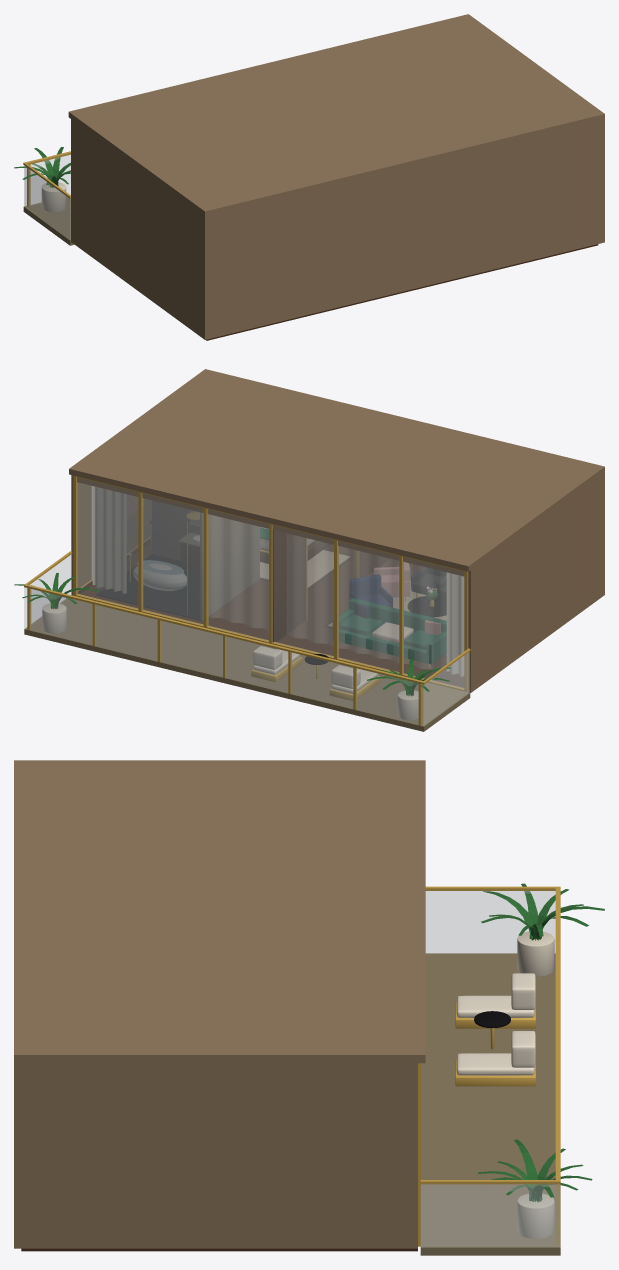
Rendered from room_suite.glb.
3 renders of one model, top to bottom at view 1: azimuth 30°, elevation 25°; view 2: azimuth 150°, elevation 25°; view 3: azimuth 270°, elevation 25°, orthographic. The views are drawn at different scales.
Parts seen in each view (by area): view 1: RmSuiteS_LuxPlasterWarm, RmSuiteS_LuxGlass, RmSuiteS_LuxStoneFine, RmSuiteS_LuxHerringbone, RmSuiteF_LuxLeaf, RmSuiteF_LuxPot, RmSuiteS_LuxGold; view 2: RmSuiteS_LuxPlasterWarm, RmSuiteS_LuxGlass, RmSuiteS_LuxSheer, RmSuiteS_LuxStoneFine, RmSuiteF_LuxGlassSmoke, RmSuiteS_LuxGold, RmSuiteS_LuxHerringbone, RmSuiteF_LuxMarbleWhite, RmSuiteS_LuxVelvetCream, RmSuiteF_LuxFlutedWalnut, RmSuiteF_LuxVelvetEmerald, RmSuiteF_LuxMarbleBlack (+10 smaller); view 3: RmSuiteS_LuxPlasterWarm, RmSuiteS_LuxStoneFine, RmSuiteS_LuxGlass, RmSuiteF_LuxLinen, RmSuiteS_LuxGold, RmSuiteF_LuxLeaf, RmSuiteF_LuxPot, RmSuiteF_LuxGoldBrushed, RmSuiteS_LuxHerringbone.
Boxes of the visible parts, x1,y1,x2,y2 form: RmSuiteS_LuxPlasterWarm: [68, 14, 604, 339]; RmSuiteS_LuxGlass: [24, 155, 70, 239]; RmSuiteS_LuxStoneFine: [23, 196, 74, 245]; RmSuiteS_LuxHerringbone: [206, 244, 598, 340]; RmSuiteF_LuxLeaf: [14, 147, 70, 187]; RmSuiteF_LuxPot: [41, 182, 66, 212]; RmSuiteS_LuxGold: [23, 151, 70, 206]; RmSuiteS_LuxPlasterWarm: [69, 369, 604, 692]; RmSuiteS_LuxGlass: [24, 477, 469, 726]; RmSuiteS_LuxSheer: [209, 515, 463, 668]; RmSuiteS_LuxStoneFine: [24, 598, 470, 731]; RmSuiteF_LuxGlassSmoke: [96, 487, 202, 620]; RmSuiteS_LuxGold: [24, 475, 470, 725]; RmSuiteS_LuxHerringbone: [81, 543, 463, 687]; RmSuiteF_LuxMarbleWhite: [152, 501, 259, 620]; RmSuiteS_LuxVelvetCream: [91, 486, 463, 676]; RmSuiteF_LuxFlutedWalnut: [150, 521, 389, 642]; RmSuiteF_LuxVelvetEmerald: [260, 527, 446, 664]; RmSuiteF_LuxMarbleBlack: [97, 554, 446, 664]; RmSuiteS_LuxPlasterWarm: [14, 760, 425, 1248]; RmSuiteS_LuxStoneFine: [420, 953, 560, 1255]; RmSuiteS_LuxGlass: [421, 891, 560, 1247]; RmSuiteF_LuxLinen: [456, 973, 535, 1075]; RmSuiteS_LuxGold: [418, 886, 560, 1246]; RmSuiteF_LuxLeaf: [478, 883, 604, 1201]; RmSuiteF_LuxPot: [517, 931, 554, 1238]; RmSuiteF_LuxGoldBrushed: [455, 1001, 535, 1086]; RmSuiteS_LuxHerringbone: [21, 1248, 417, 1251].
Bounding box in the file's own units: 11.98 × 3.57 × 9.53.
